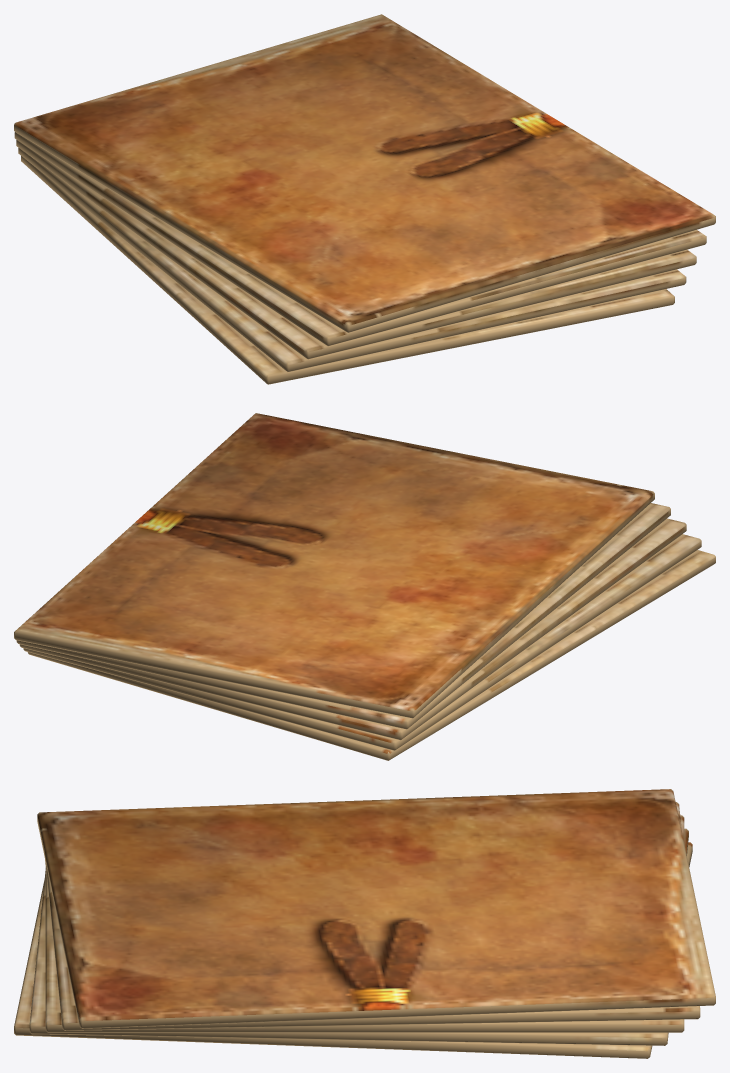
The model's file is item_mm9_10248.glb.
3 views of the same model, one above another, from view 1: azimuth 30°, elevation 25°; view 2: azimuth 150°, elevation 25°; view 3: azimuth 270°, elevation 25° (orthographic). The views are drawn at different scales.
Visible parts, largest first — view 1: d10248; view 2: d10248; view 3: d10248.
Boxes of the visible parts, bbox=[...] form: d10248: bbox=[14, 14, 715, 384]; d10248: bbox=[14, 413, 715, 760]; d10248: bbox=[14, 789, 715, 1058].
Bounding box in the file's own units: 53.69 × 5.63 × 64.8.
Materials: 1 (1 with a texture image).
